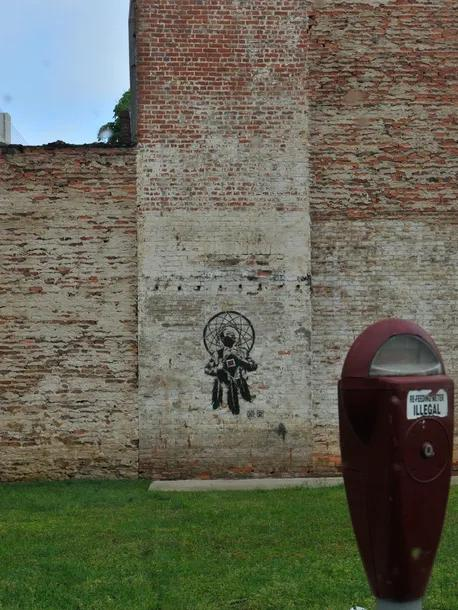graffiti: (203, 308, 262, 416)
